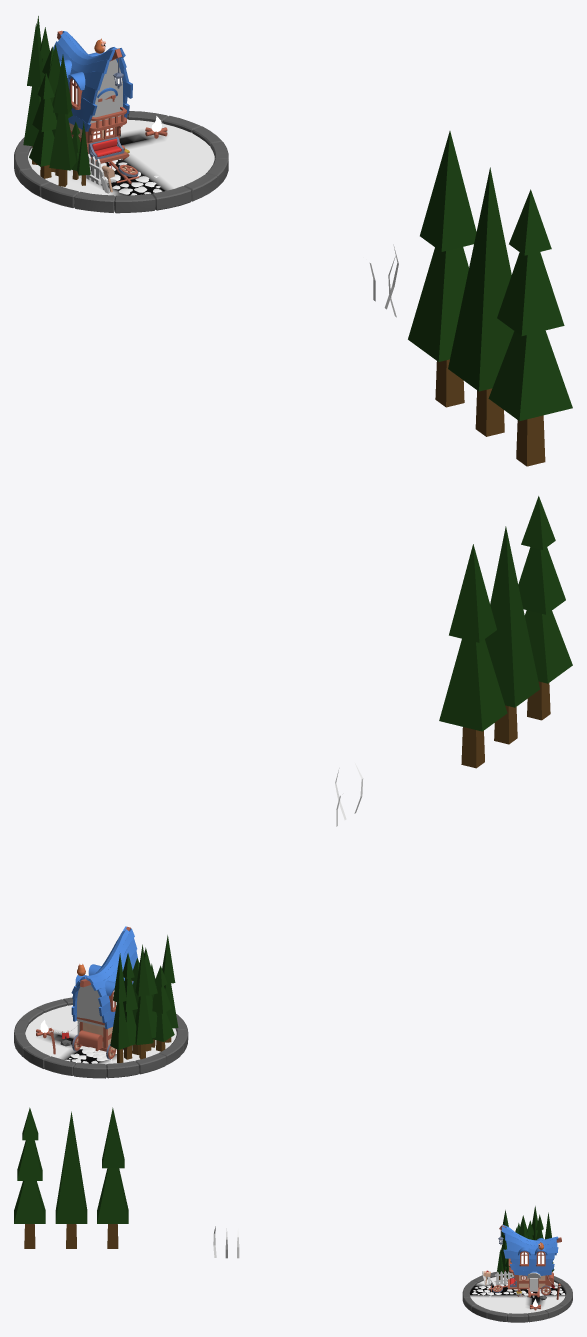
Rendered from Wagon_6.glb.
3 renders of one model, top to bottom at view 1: azimuth 30°, elevation 25°; view 2: azimuth 150°, elevation 25°; view 3: azimuth 270°, elevation 25°, orthographic. The views are drawn at different scales.
Visible parts, largest first — view 1: Cube.067, Cube.069, Cube.068, Cube.059, Circle, Cylinder.002, Cube.096, Cube.085, Cube.078, Cylinder.012; view 2: Cube.069, Cube.067, Cube.068, Cube.059, Circle, Cylinder.002, Cube.078, Cube.075, Cube.085, Cube.079, Cylinder.012; view 3: Cube.067, Cube.069, Cube.068, Circle, Cube.059, Cylinder.002.
Part boxes in pixels (x1,y1,x2,y2): Cube.067: (488,189,572,466); Cube.069: (408,131,476,407); Cube.068: (448,167,514,436); Cube.059: (14,111,228,213); Circle: (28,119,214,196); Cylinder.002: (53,31,132,131); Cube.096: (49,54,76,186); Cube.085: (29,73,56,178); Cube.078: (23,23,44,164); Cylinder.012: (90,59,122,123); Cube.069: (439,544,507,768); Cube.067: (518,496,572,720); Cube.068: (485,526,539,744); Cube.059: (14,997,188,1078); Circle: (25,1005,176,1064); Cylinder.002: (71,926,138,1029); Cube.078: (135,944,152,1059); Cube.075: (110,953,129,1062); Cube.085: (152,965,174,1051); Cube.079: (123,953,137,1059); Cylinder.012: (77,985,105,1027); Cube.067: (14,1107,45,1248); Cube.069: (97,1107,128,1248); Cube.068: (55,1111,87,1248); Circle: (470,1276,565,1313); Cube.059: (462,1271,572,1322); Cylinder.002: (501,1225,558,1275).
Size of the model in its own units: 6.21 by 10.97 by 31.42.
